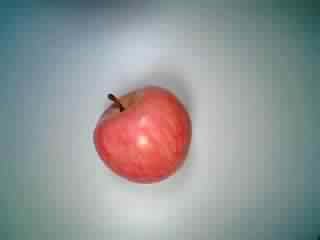apple: (89, 84, 194, 186)
